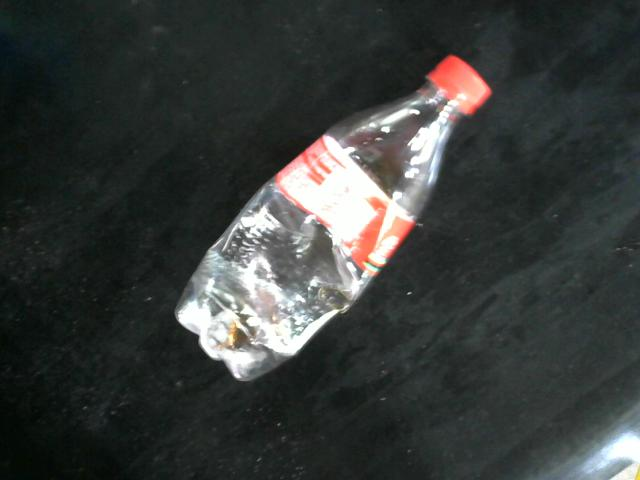bottle: (172, 53, 494, 385)
